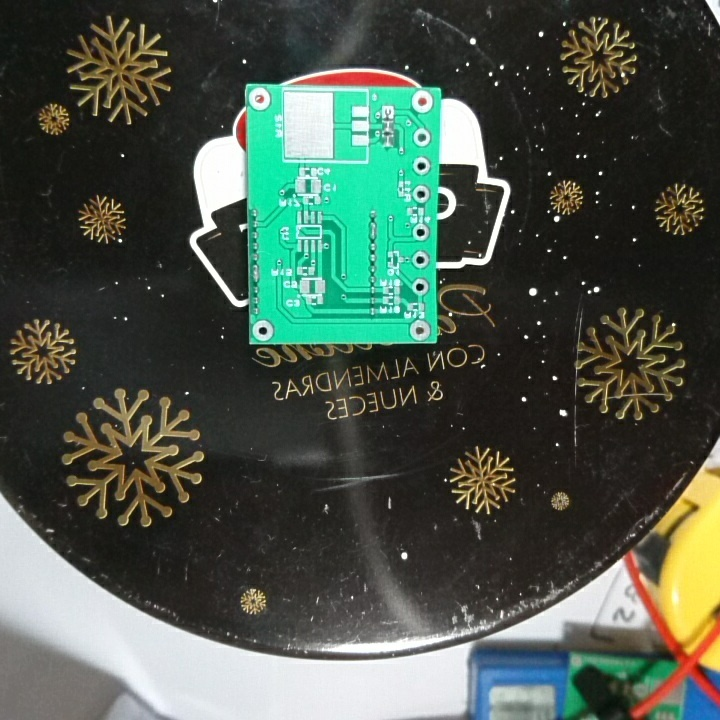F: (408, 88, 436, 117), (247, 87, 273, 115), (251, 316, 276, 344), (408, 314, 433, 341), (410, 273, 432, 300), (410, 126, 436, 148), (410, 155, 433, 176), (411, 221, 431, 245), (412, 183, 432, 205), (412, 250, 432, 272), (379, 103, 397, 120)
P: (367, 217, 381, 242), (249, 261, 261, 283)
